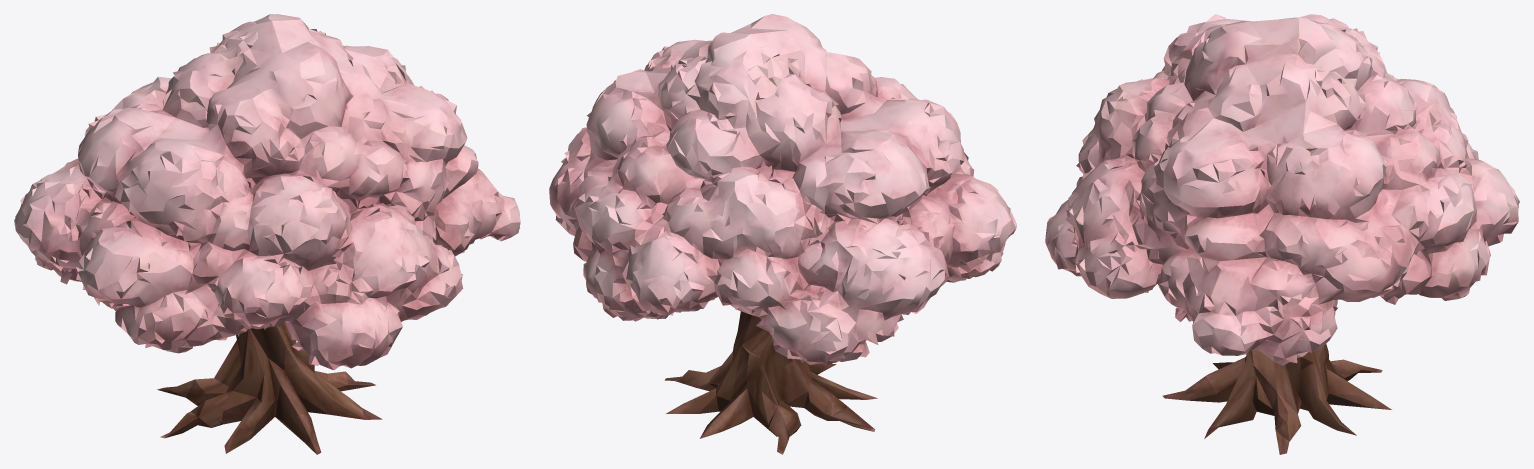
File: cherry-tree.glb
3 views of the same model, side by side, from view 1: azimuth 30°, elevation 25°; view 2: azimuth 150°, elevation 25°; view 3: azimuth 270°, elevation 25° (orthographic). The views are drawn at different scales.
Bounding box in the file's own units: 1.9 × 1.58 × 1.74.
1 material, 1 textured.
